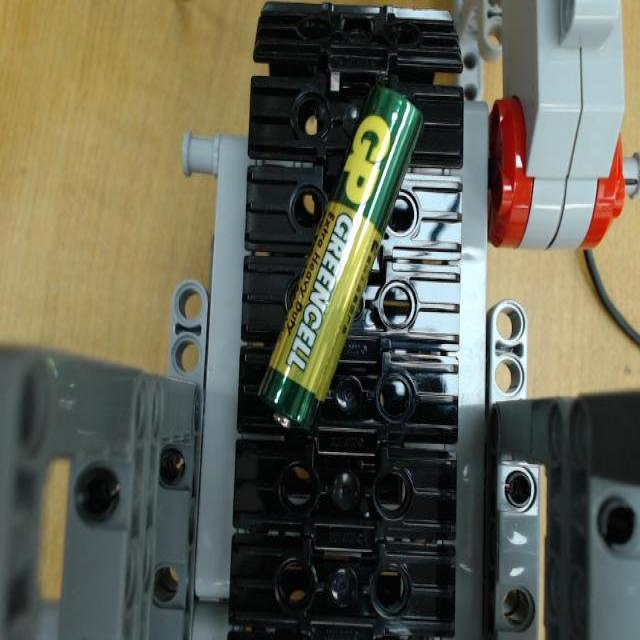AAA: (256, 84, 424, 432)
